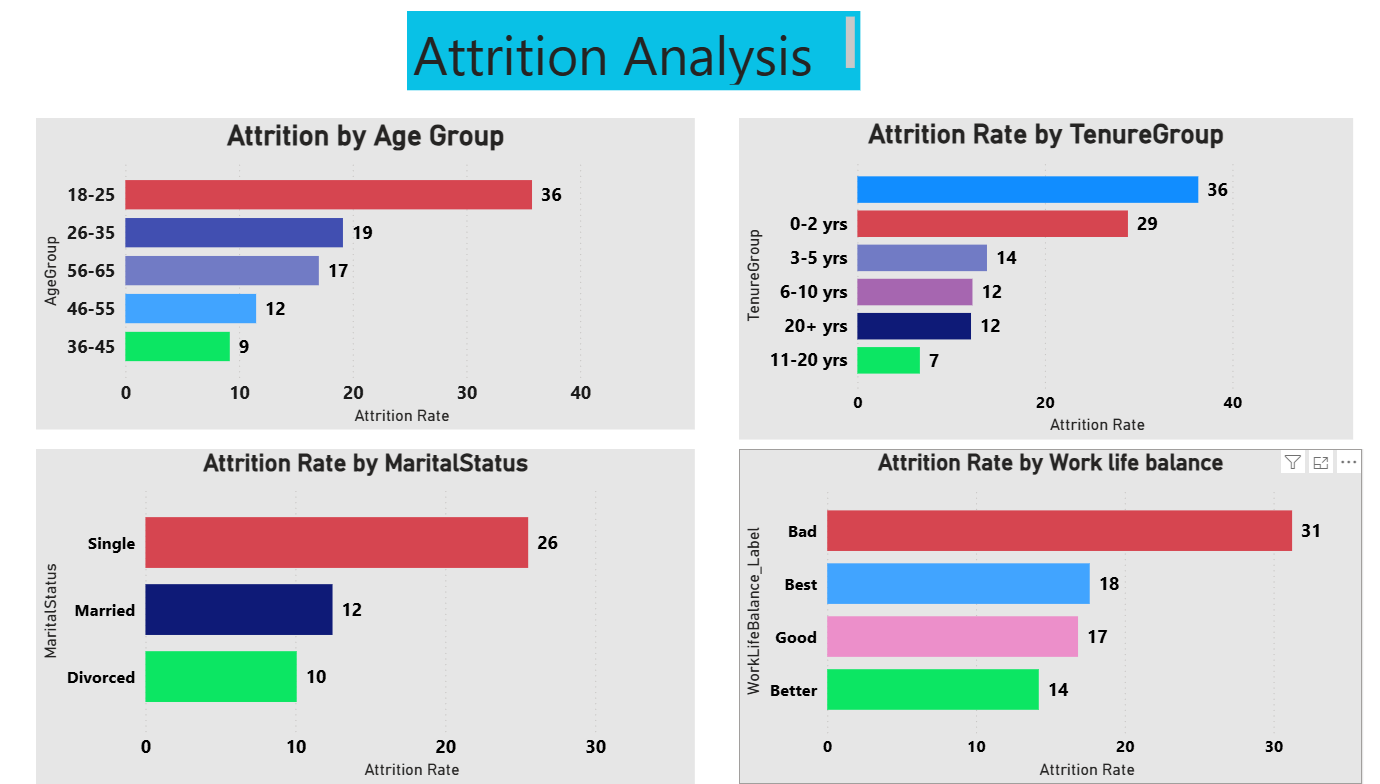

What the dashboard file says about the page in this screenshot:
{"tool":"powerbi","page":{"name":"Attrition Analysis","canvas":[1280,720],"ordinal":1},"visuals":[{"type":"barChart","title":"Attrition by Age Group","fields":{"Category":["HR_Attrition_Cleanedfromsql.AgeGroup"],"Y":["HR_Attrition_Cleanedfromsql.Attrition Rate"]},"box":[35.5,123.7,590.4,279.3],"z":0},{"type":"barChart","fields":{"Category":["HR_Attrition_Cleanedfromsql.TenureGroup"],"Y":["HR_Attrition_Cleanedfromsql.Attrition Rate"]},"box":[665.1,123.7,550,287.8],"z":1},{"type":"clusteredBarChart","fields":{"Category":["HR_Attrition_Cleanedfromsql.MaritalStatus"],"Y":["HR_Attrition_Cleanedfromsql.Attrition Rate"]},"box":[35.5,420.1,590.4,300.1],"z":2},{"type":"clusteredBarChart","fields":{"Category":["HR_Attrition_Cleanedfromsql.WorkLifeBalance_Label"],"Y":["HR_Attrition_Cleanedfromsql.Attrition Rate"]},"box":[665.1,420.1,558.5,300.1],"z":3},{"type":"textbox","box":[368,0,406,72],"z":4}]}

Visuals, with their boxes in screenshot pixels (x1, y1, x2, y2), scaled from the page's 1280x720 canvas onto the 1380x784 screenshot:
"Attrition by Age Group" barChart: detection(38, 135, 675, 439)
barChart - HR_Attrition_Cleanedfromsql.TenureGroup x HR_Attrition_Cleanedfromsql.Attrition Rate: detection(717, 135, 1310, 448)
clusteredBarChart - HR_Attrition_Cleanedfromsql.MaritalStatus x HR_Attrition_Cleanedfromsql.Attrition Rate: detection(38, 457, 675, 783)
clusteredBarChart - HR_Attrition_Cleanedfromsql.WorkLifeBalance_Label x HR_Attrition_Cleanedfromsql.Attrition Rate: detection(717, 457, 1319, 783)
textbox: detection(397, 0, 834, 78)
